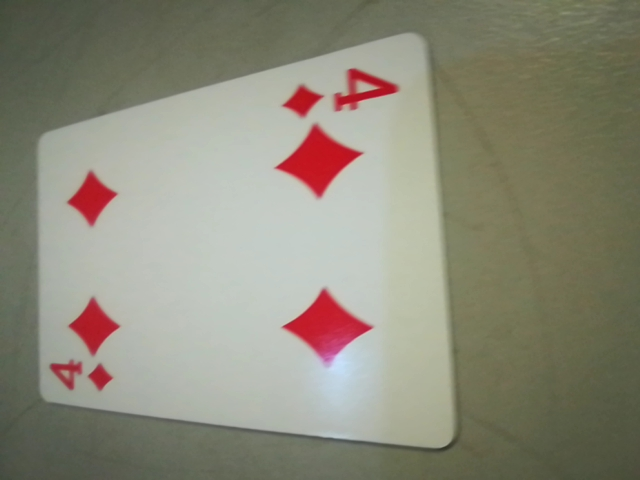fk 4: (273, 64, 411, 122)
